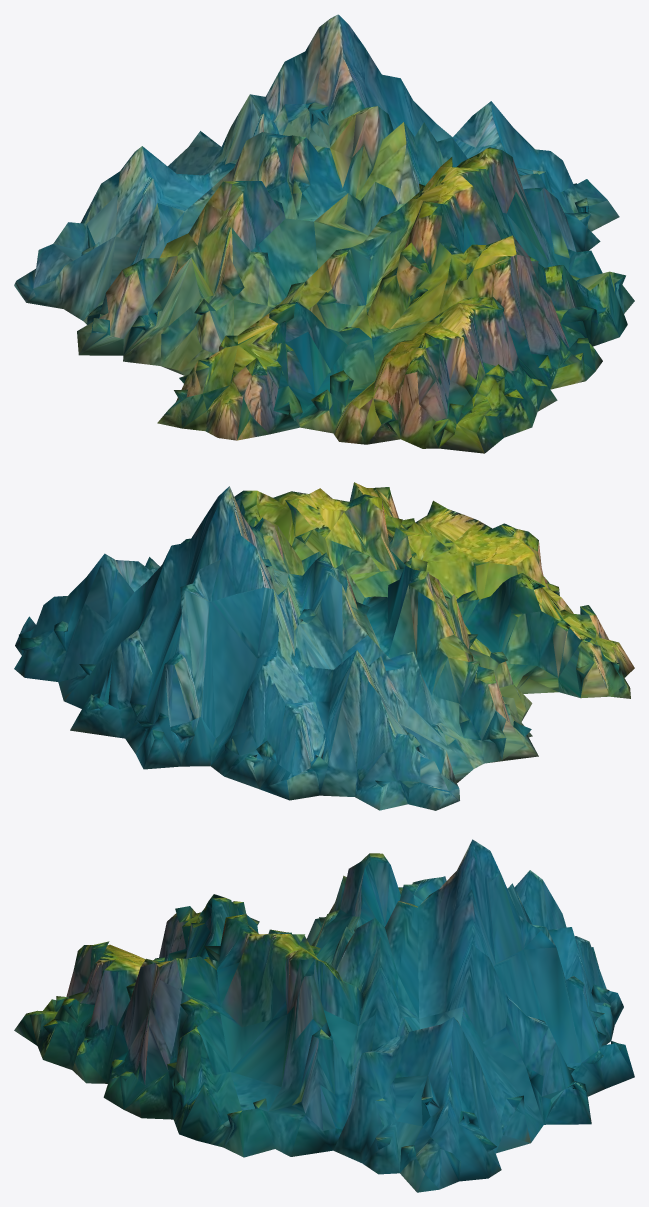
The model's file is forestHillB.glb.
3 views of the same model, one above another, from view 1: azimuth 30°, elevation 25°; view 2: azimuth 150°, elevation 25°; view 3: azimuth 270°, elevation 25° (orthographic). The views are drawn at different scales.
Visible parts, largest first — view 1: MountainMesh.003; view 2: MountainMesh.003; view 3: MountainMesh.003.
Part boxes in pixels (x1,y1,x2,y2): MountainMesh.003: (14, 14, 634, 453); MountainMesh.003: (14, 482, 634, 810); MountainMesh.003: (14, 839, 634, 1192).
Size of the model in its own units: 2 by 0.8399 by 2.
Materials: 1 (1 with a texture image).
